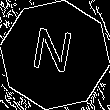N_S: (31, 27, 79, 83)
